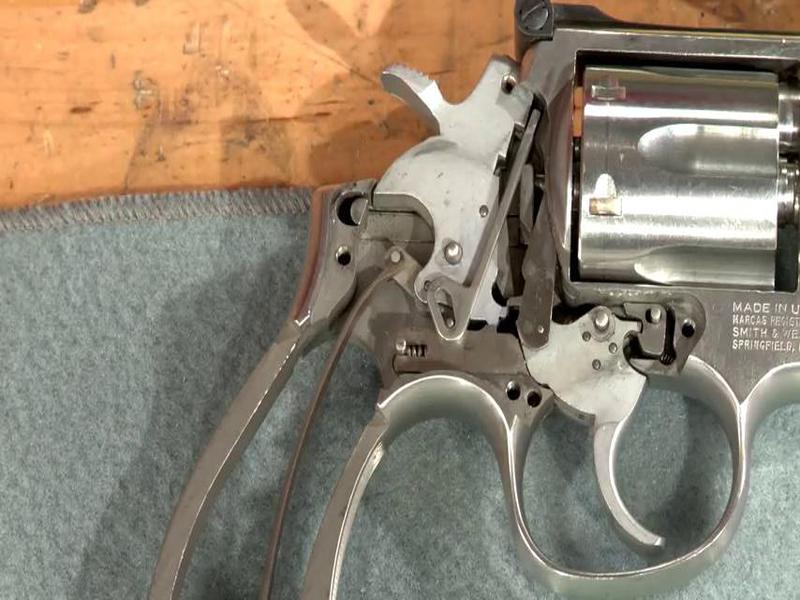Revolver: (107, 12, 800, 544)
